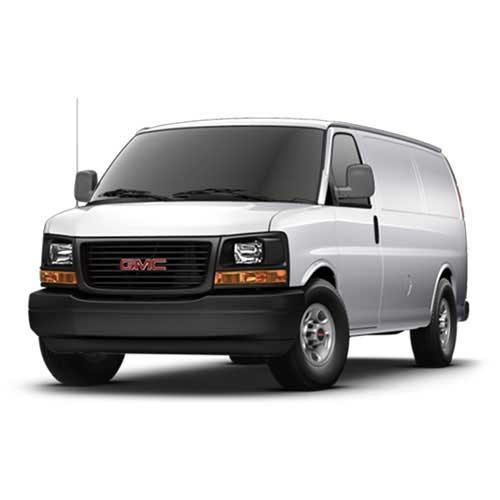van: (28, 117, 470, 392)
